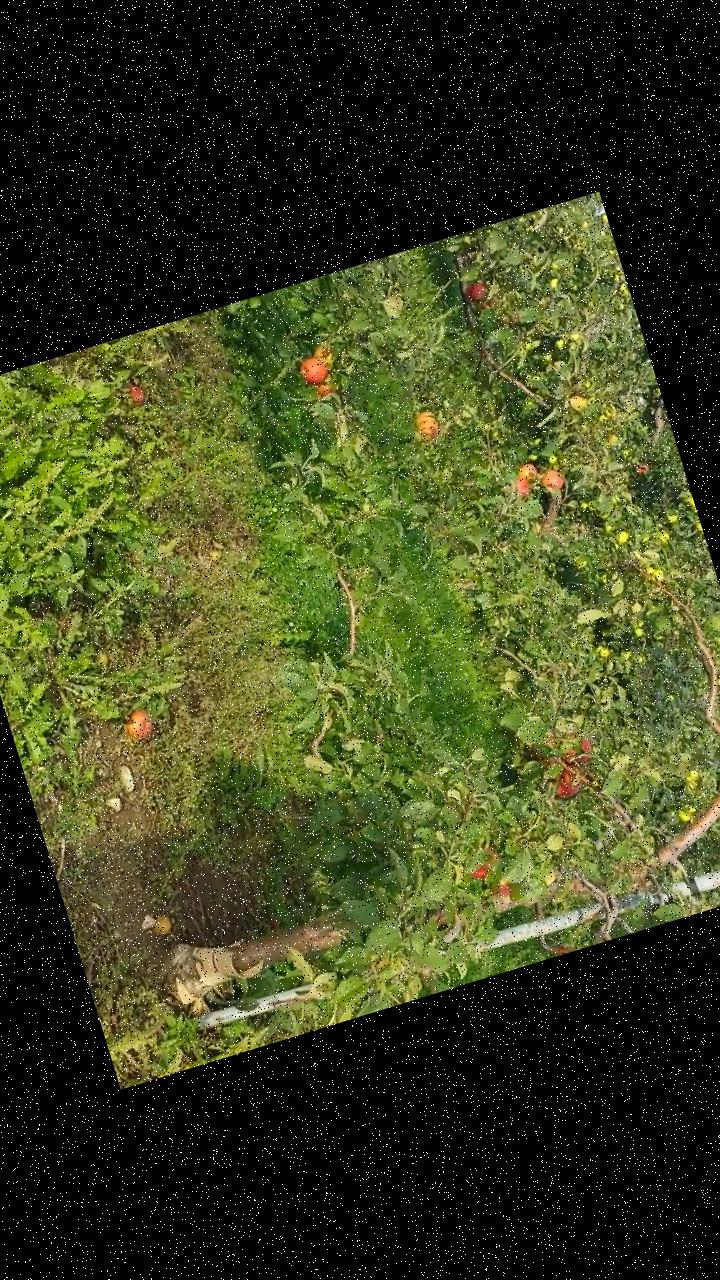Apple: (558, 726, 598, 766), (295, 349, 332, 386), (413, 406, 442, 441), (552, 768, 584, 799), (310, 339, 336, 368), (468, 856, 495, 882), (540, 464, 565, 490), (464, 278, 490, 303), (514, 458, 540, 482), (314, 372, 338, 397), (490, 876, 516, 898), (516, 478, 534, 496)
